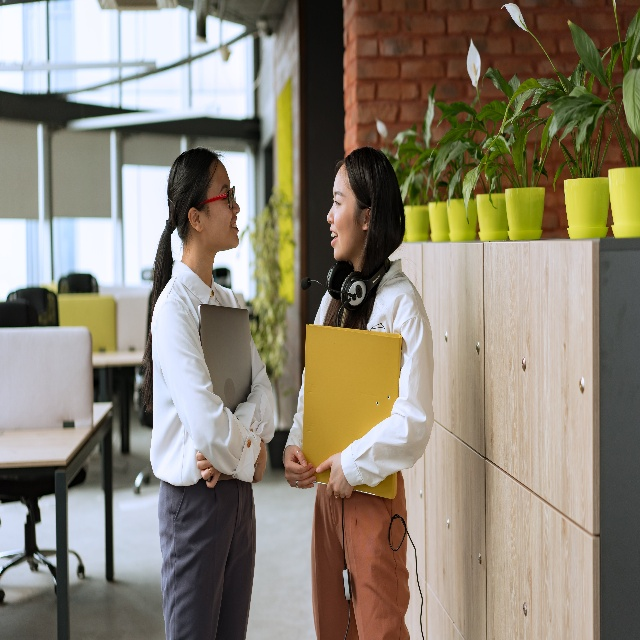Gafas: (225, 183, 237, 207)
Sin_guantes: (314, 455, 353, 501), (284, 445, 317, 494), (196, 449, 217, 489)
